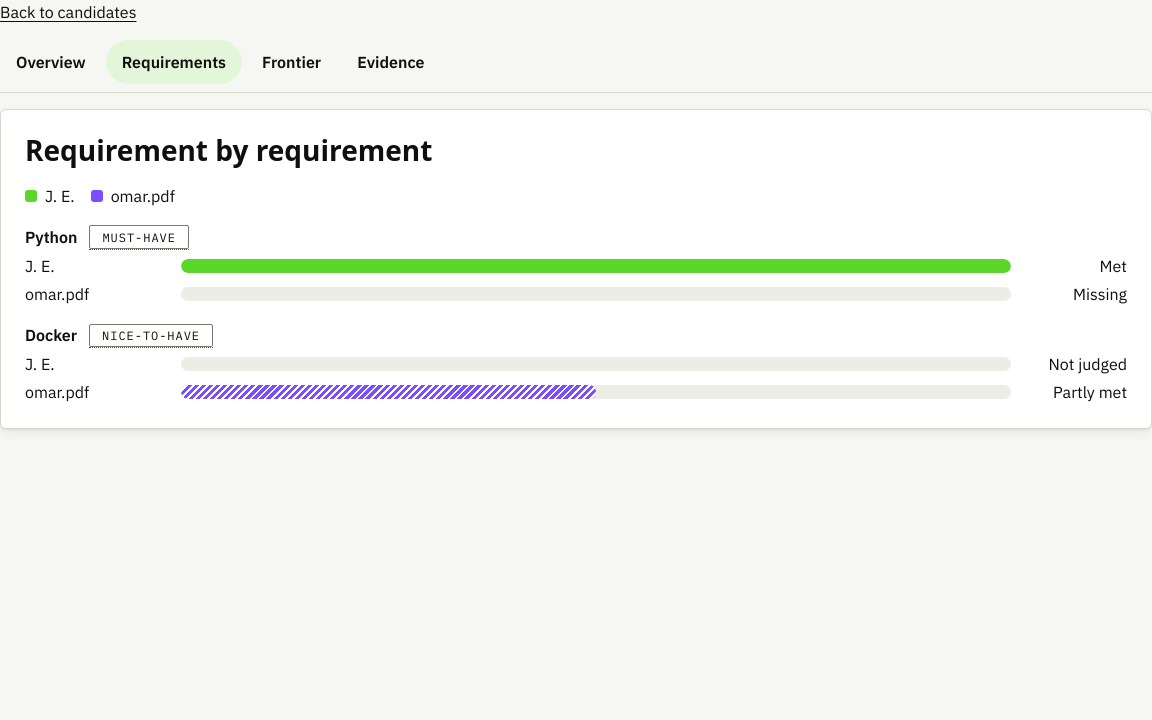
Scenario: side by side › opens the words behind a result from a bar
Expected: the heading "Requirement by requirement" is shown, [25, 134, 432, 168]
Step 1. Click the button with class "req-bar" showing "J. E. Met" → (576, 266), box [25, 254, 1127, 278]
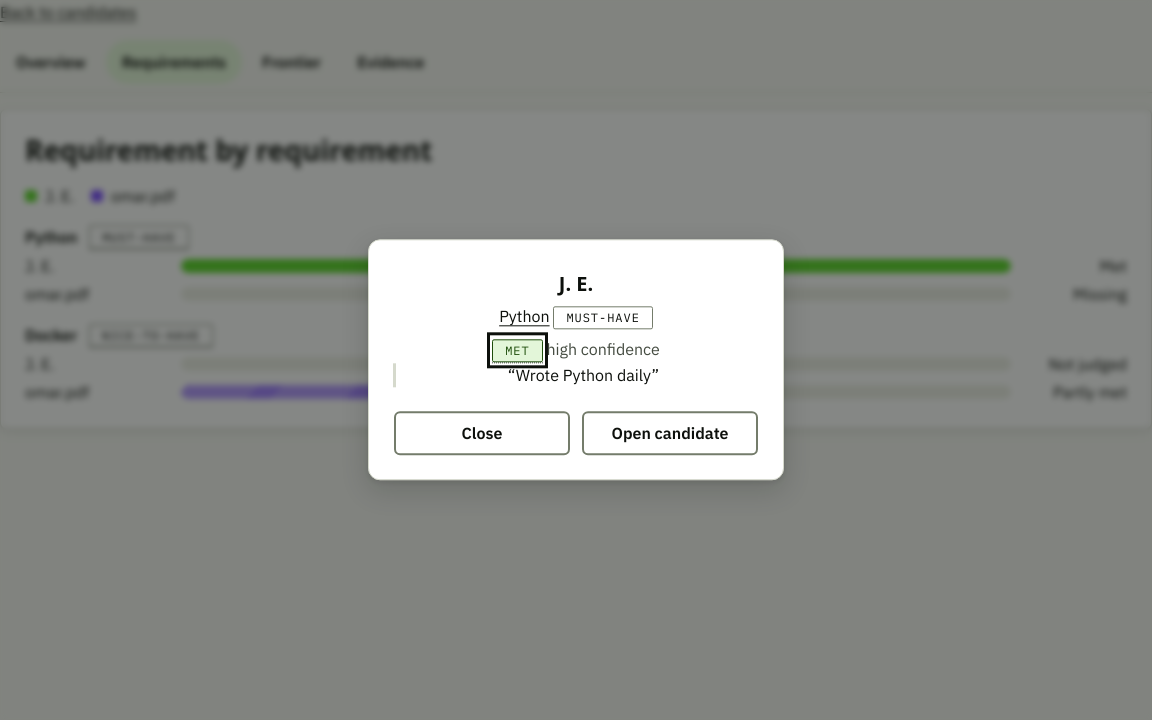
Result: the text "“Wrote Python daily”" is shown at [393, 364, 759, 388]
Result: the text "high confidence" is shown at [543, 340, 660, 360]
